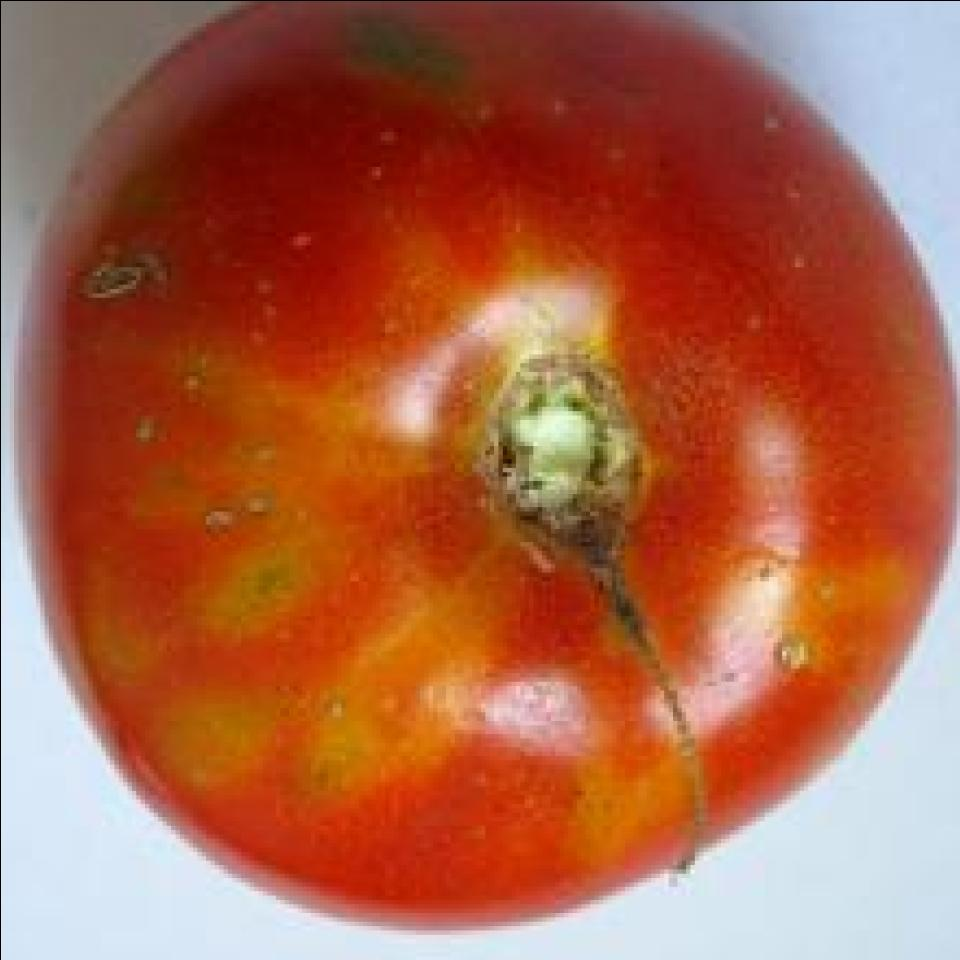Spotted wilt Virus: (13, 0, 951, 947)
